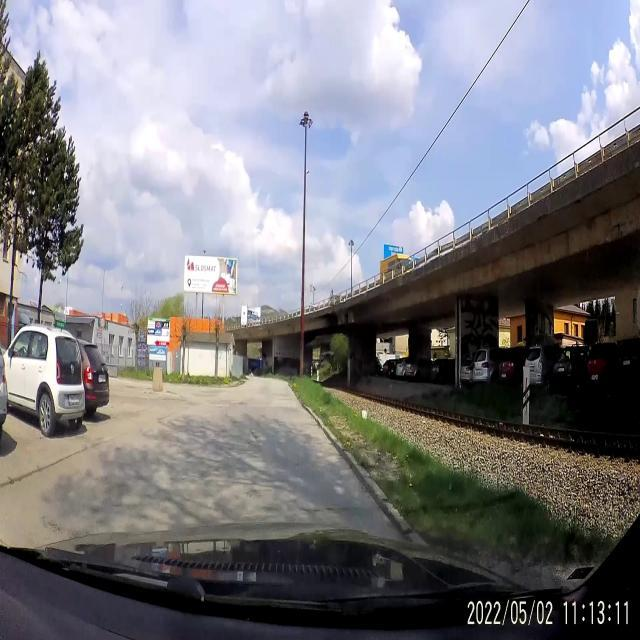Pothole: (296, 498, 354, 530), (246, 411, 274, 472)
